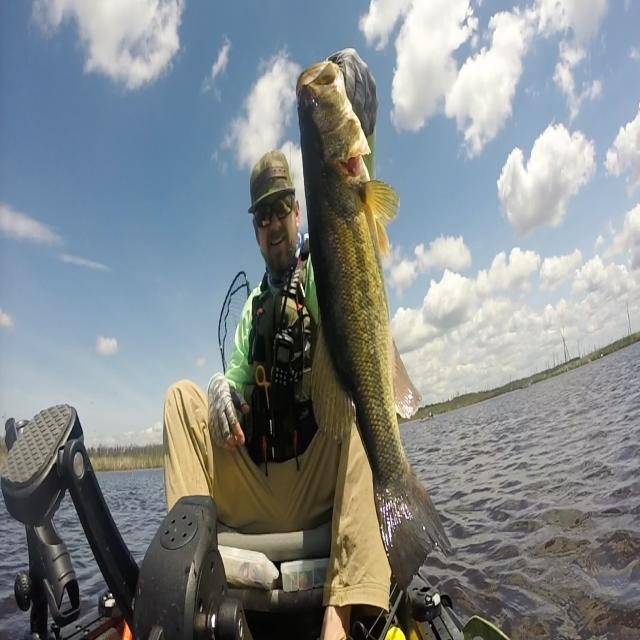Bass - Largemouth: (297, 61, 450, 589)
